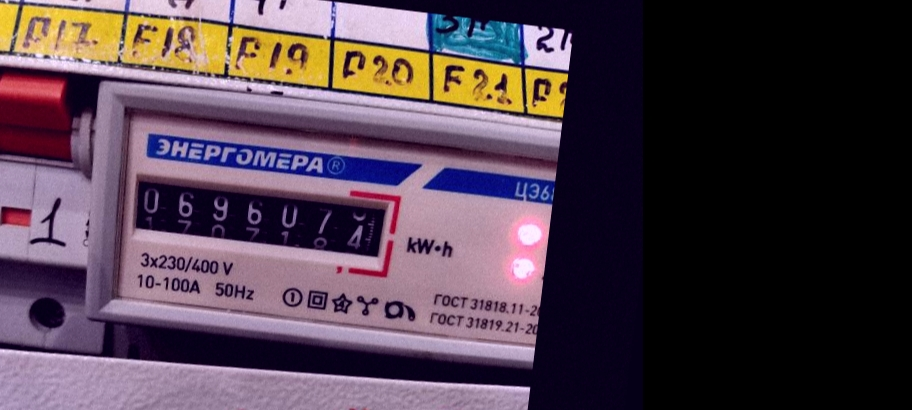0: (277, 197, 300, 229), (139, 184, 160, 214)
4: (344, 221, 363, 250)
6: (242, 195, 265, 226), (174, 187, 196, 217)
7: (313, 204, 333, 235)
9: (209, 192, 229, 222)
screen: (113, 154, 407, 277)
